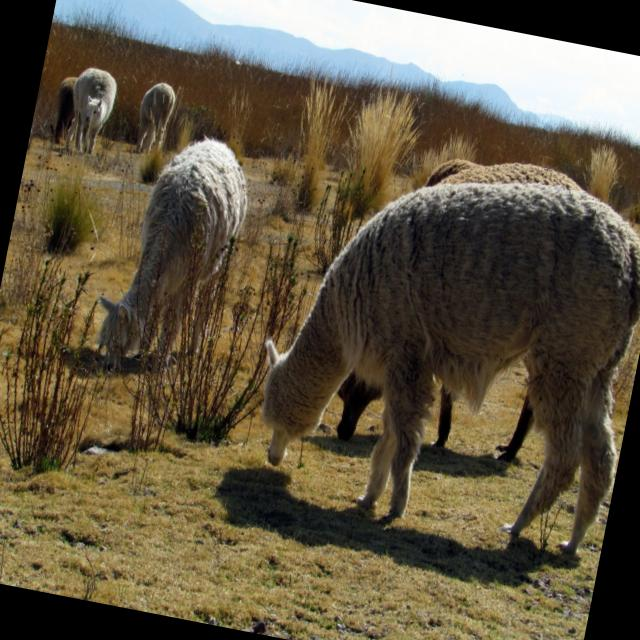alpaca: (238, 138, 640, 564), (90, 123, 258, 390), (64, 66, 120, 154), (130, 76, 180, 158)
